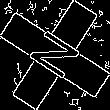N_SE: (23, 25, 87, 85)
